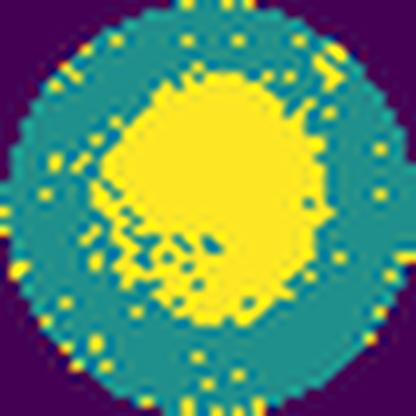Center: (90, 69, 330, 332)
